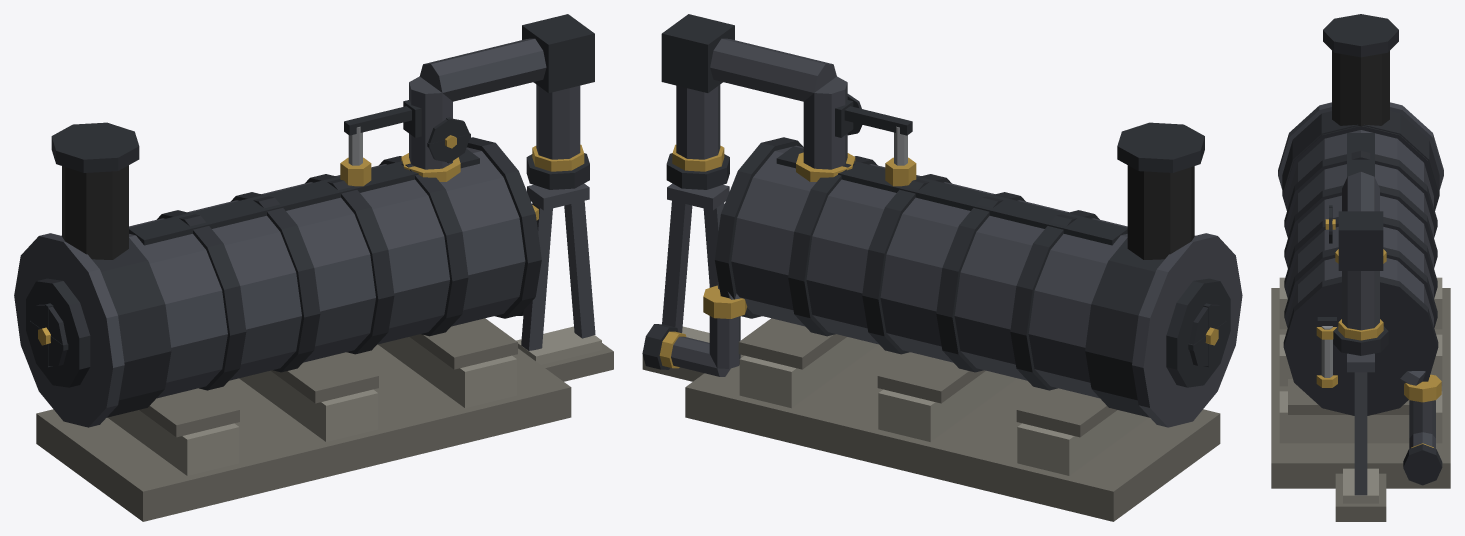
File: boiler_large.glb
3 views of the same model, side by side, from view 1: azimuth 30°, elevation 25°; view 2: azimuth 150°, elevation 25°; view 3: azimuth 270°, elevation 25° (orthographic). The views are drawn at different scales.
Visible parts, largest first — view 1: Cylinder, Cube, Cylinder.008, Cylinder.007, Cylinder.012, Cube.007, Cylinder.020, Cube.003, Cube.005, Cube.001, Cube.014, Cylinder.009 (+23 smaller); view 2: Cylinder, Cube, Cylinder.008, Cylinder.007, Cylinder.012, Cube.007, Cylinder.020, Cube.005, Cube.003, Cube.001, Cube.014, Cylinder.009 (+24 smaller); view 3: Cylinder.006, Cylinder, Cube, Cylinder.012, Cube.005, Cube.014, Cylinder.007, Cylinder.013, Cylinder.021, Cylinder.001, Cube.018, Cylinder.002 (+22 smaller).
Part boxes in pixels (box(x1,y1,x2,y2)): Cylinder: box(129, 147, 525, 398); Cube: box(36, 344, 571, 521); Cylinder.008: box(14, 233, 124, 427); Cylinder.007: box(61, 235, 171, 417); Cylinder.012: box(62, 165, 128, 259); Cube.007: box(129, 149, 479, 245); Cylinder.020: box(419, 38, 546, 101); Cube.003: box(239, 370, 378, 441); Cube.005: box(378, 337, 516, 408); Cube.001: box(108, 410, 239, 475); Cube.014: box(522, 14, 594, 93); Cylinder.009: box(26, 278, 90, 387); Cylinder: box(731, 145, 1127, 398); Cube: box(685, 344, 1220, 521); Cylinder.008: box(1132, 233, 1242, 427); Cylinder.007: box(1085, 238, 1164, 417); Cylinder.012: box(1127, 165, 1194, 259); Cube.007: box(776, 146, 1127, 245); Cylinder.020: box(710, 38, 836, 101); Cube.005: box(739, 337, 878, 408); Cube.003: box(878, 370, 1017, 441); Cube.001: box(1017, 410, 1148, 475); Cube.014: box(661, 14, 734, 92); Cylinder.009: box(1166, 278, 1230, 387); Cylinder.006: box(1283, 276, 1438, 415); Cylinder: box(1288, 130, 1433, 326); Cube: box(1271, 288, 1450, 488); Cylinder.012: box(1332, 51, 1389, 125); Cube.005: box(1279, 391, 1442, 443); Cube.014: box(1338, 211, 1383, 270); Cylinder.007: box(1282, 111, 1439, 210); Cylinder.013: box(1323, 14, 1398, 57); Cylinder.021: box(1342, 271, 1379, 330); Cylinder.001: box(1284, 151, 1437, 237); Cube.018: box(1354, 372, 1367, 495); Cylinder.002: box(1284, 185, 1437, 268).
Bounding box in the file's own units: 96.25 × 56.2 × 32.
